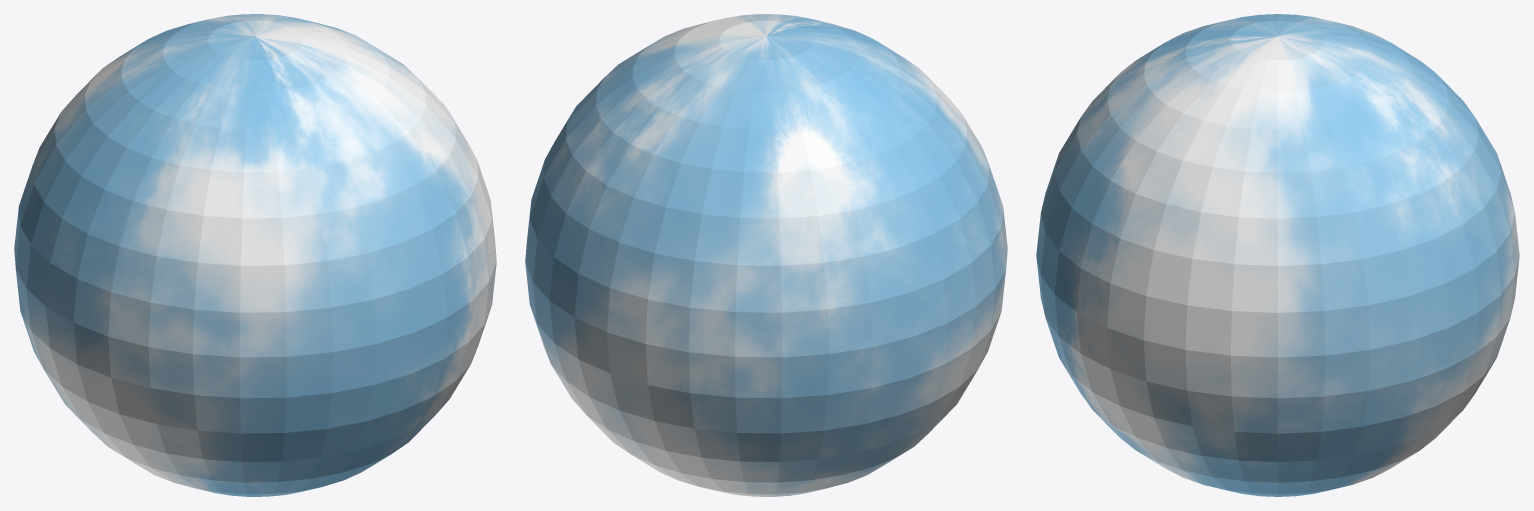
The model's file is stage01.glb.
3 views of the same model, side by side, from view 1: azimuth 30°, elevation 25°; view 2: azimuth 150°, elevation 25°; view 3: azimuth 270°, elevation 25° (orthographic).
Parts seen in each view (by area): view 1: Sphere; view 2: Sphere; view 3: Sphere.
Part boxes in pixels (box(x1,y1,x2,y2)): Sphere: box(14, 14, 496, 496); Sphere: box(525, 14, 1007, 496); Sphere: box(1036, 14, 1519, 496).
Bounding box in the file's own units: 500 × 500 × 500.
Materials: 3 (1 with a texture image).
